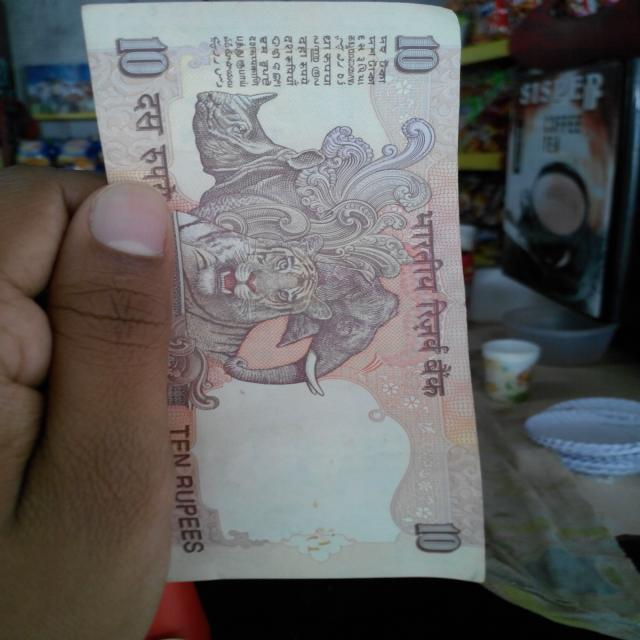10rs: (83, 5, 490, 586)
